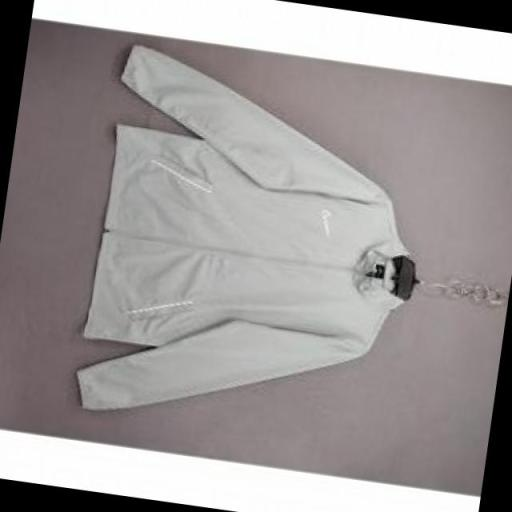Nike: (316, 203, 340, 241)
